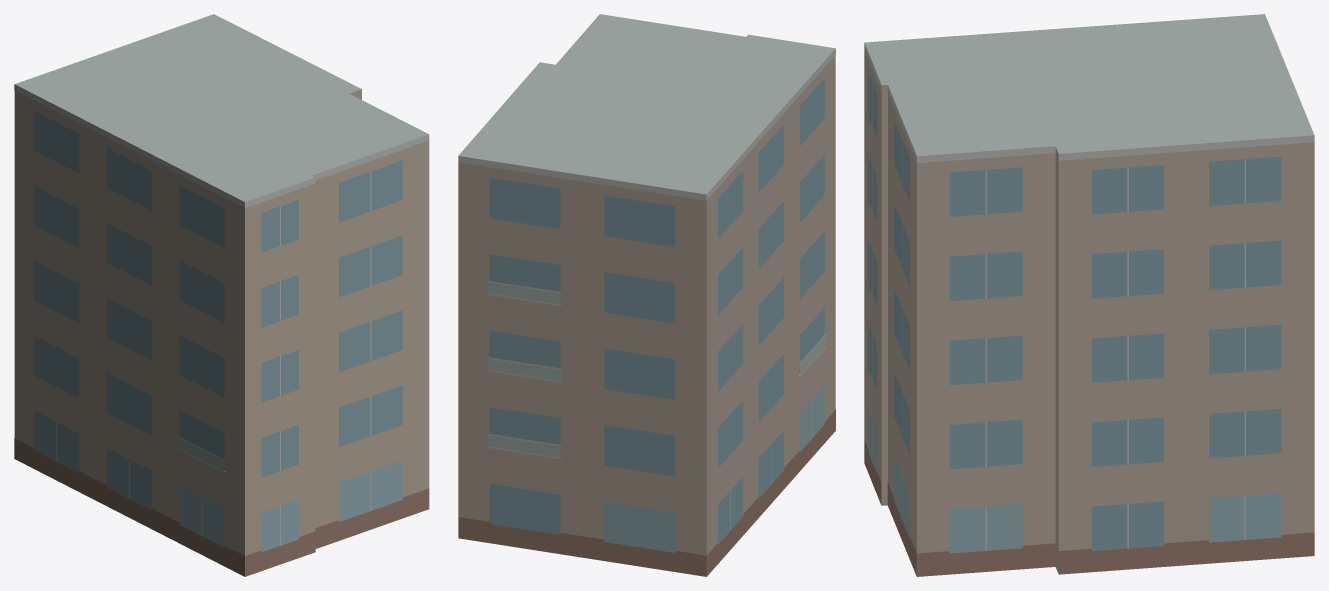
Rendered from survey-upis-32956118.glb.
3 renders of one model, left to right at view 1: azimuth 30°, elevation 25°; view 2: azimuth 150°, elevation 25°; view 3: azimuth 270°, elevation 25°, orthographic. The views are drawn at different scales.
Parts seen in each view (by area): view 1: survey-upis-32956118.tmp; view 2: survey-upis-32956118.tmp; view 3: survey-upis-32956118.tmp.
Boxes of the visible parts, bbox=[...] form: survey-upis-32956118.tmp: bbox=[14, 14, 429, 576]; survey-upis-32956118.tmp: bbox=[458, 14, 835, 576]; survey-upis-32956118.tmp: bbox=[864, 14, 1314, 576].
Bounding box in the file's own units: 10.82 × 14.9 × 14.46.
